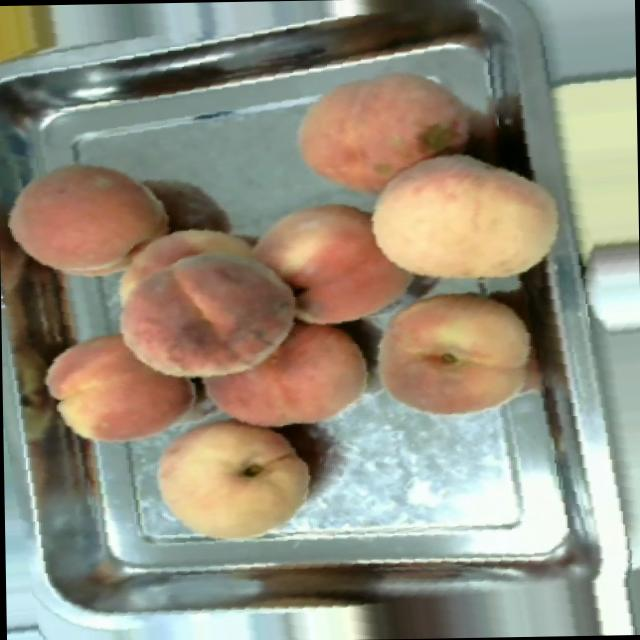Fruit: (90, 208, 314, 398), (352, 134, 572, 298), (276, 52, 485, 215), (0, 141, 186, 294), (244, 188, 426, 334), (141, 410, 320, 556), (363, 280, 542, 424), (28, 318, 205, 457), (188, 318, 376, 436), (0, 4, 75, 98)
